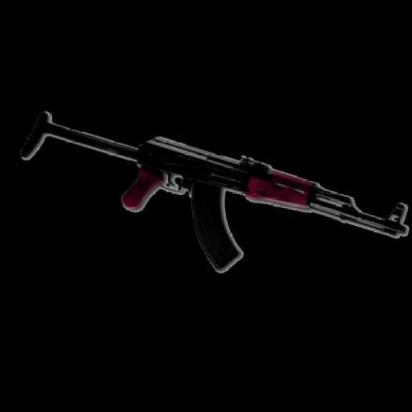Gun: (4, 63, 412, 327)
